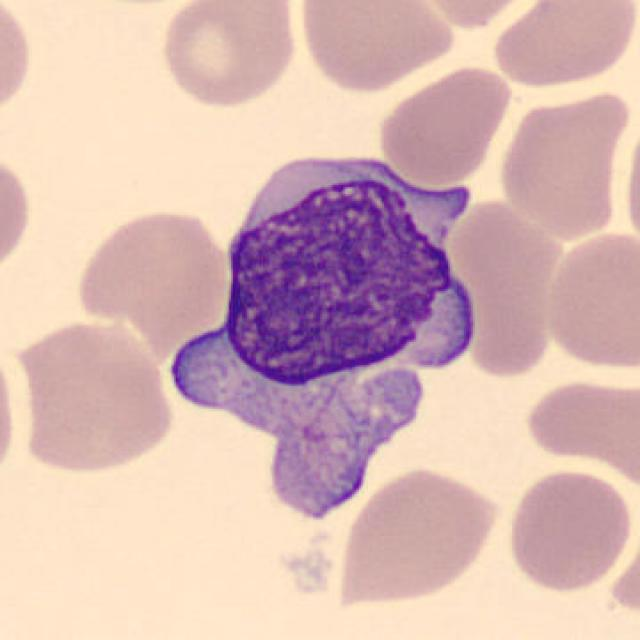Monocyte: (168, 148, 483, 527)
RBC: (7, 314, 178, 478), (333, 464, 503, 612), (77, 203, 240, 340), (496, 88, 636, 246), (374, 62, 516, 187), (503, 465, 635, 596), (154, 0, 300, 109), (293, 0, 457, 95), (540, 225, 638, 374), (487, 0, 638, 90), (519, 374, 638, 467), (0, 146, 36, 284), (405, 0, 553, 32), (0, 2, 36, 127)
